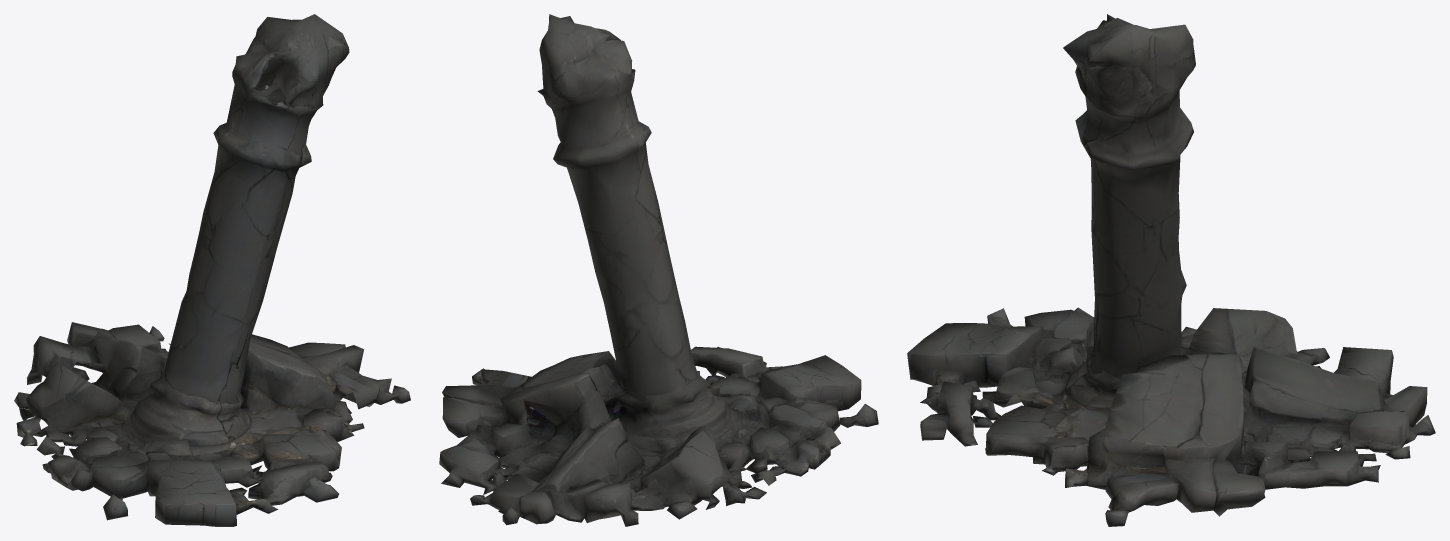
Rendered from Fallen_Pillar.glb.
3 renders of one model, left to right at view 1: azimuth 30°, elevation 25°; view 2: azimuth 150°, elevation 25°; view 3: azimuth 270°, elevation 25°, orthographic. The views are drawn at different scales.
Visible parts, largest first — view 1: Fallen_Pillar; view 2: Fallen_Pillar; view 3: Fallen_Pillar.
Part boxes in pixels (x1=…): Fallen_Pillar: x1=14, y1=14, x2=410, y2=526; Fallen_Pillar: x1=439, y1=14, x2=878, y2=526; Fallen_Pillar: x1=907, y1=14, x2=1435, y2=526.
Bounding box in the file's own units: 1.46 × 1.58 × 1.64.
1 material, 1 textured.
